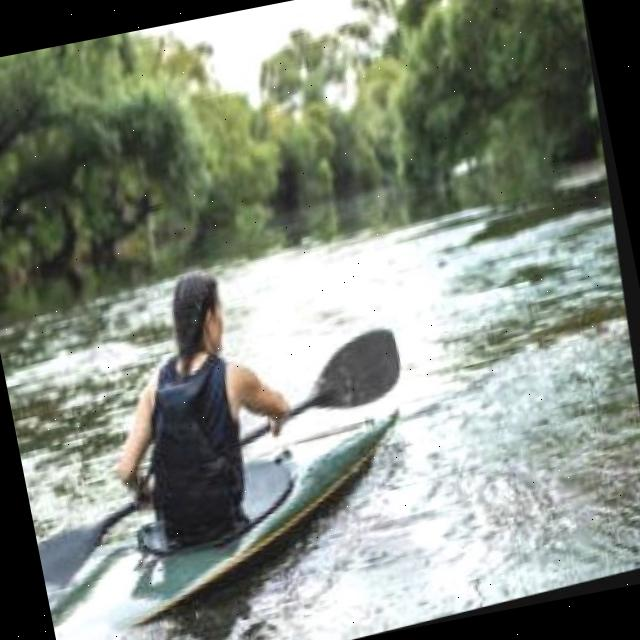kayak: (131, 410, 401, 622), (38, 501, 144, 630), (289, 330, 406, 419)
